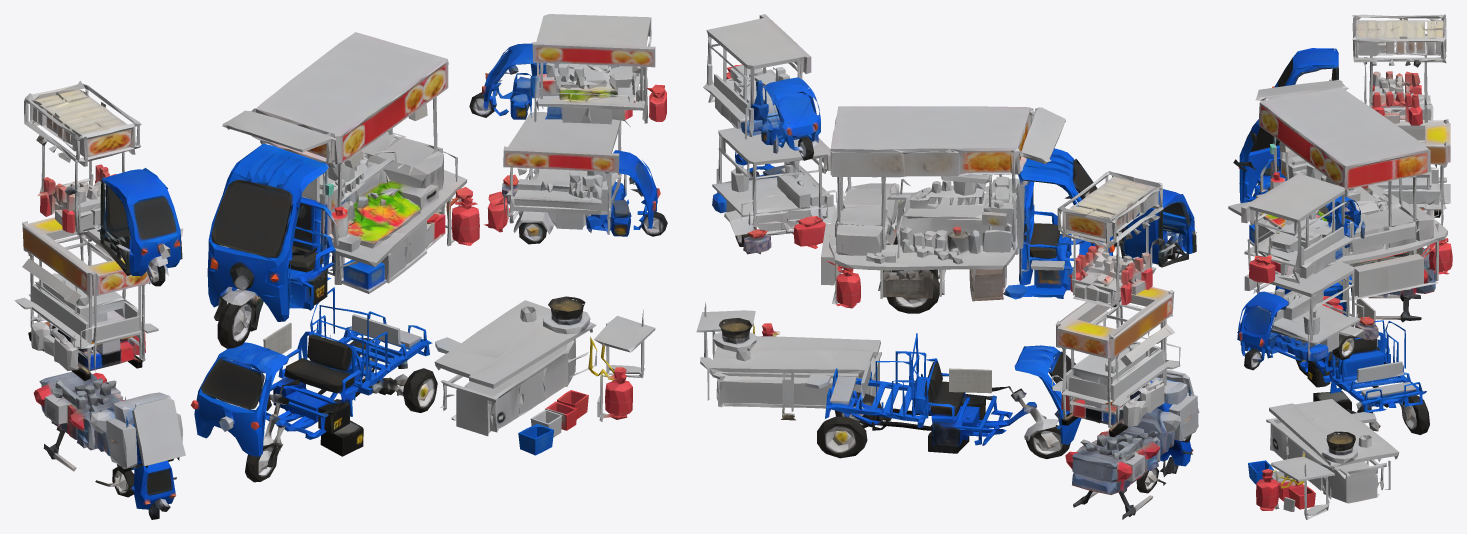
The model's file is hyper3d-cart-original.glb.
The picture shows the model from 3 angles, left to right: view 1: azimuth 30°, elevation 25°; view 2: azimuth 150°, elevation 25°; view 3: azimuth 270°, elevation 25°; orthographic projection. The views are drawn at different scales.
Parts seen in each view (by area): view 1: model; view 2: model; view 3: model.
Part boxes in pixels (x1,y1,x2,y2): model: (14, 14, 667, 519); model: (696, 14, 1199, 519); model: (1228, 14, 1452, 519).
Bounding box in the file's own units: 1.89 × 1.24 × 0.7994.
Materials: 1 (1 with a texture image).
